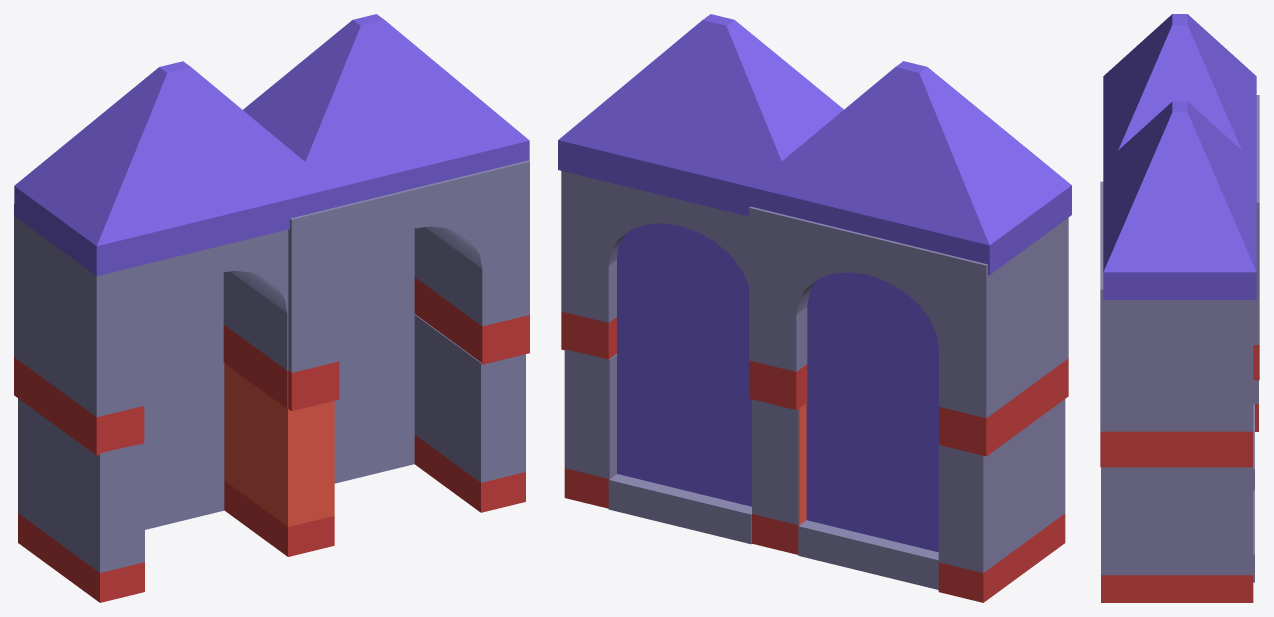
The model's file is double-doors.glb.
3 views of the same model, side by side, from view 1: azimuth 30°, elevation 25°; view 2: azimuth 150°, elevation 25°; view 3: azimuth 270°, elevation 25° (orthographic). The views are drawn at different scales.
Visible parts, largest first — view 1: mergedBlocks(Clone); view 2: mergedBlocks(Clone); view 3: mergedBlocks(Clone).
Boxes of the visible parts, x1,y1,x2,y2 form: mergedBlocks(Clone): (14,14,529,602); mergedBlocks(Clone): (558,14,1071,602); mergedBlocks(Clone): (1100,14,1259,602).
Size of the model in its own units: 3.03 by 3.2 by 1.04.
